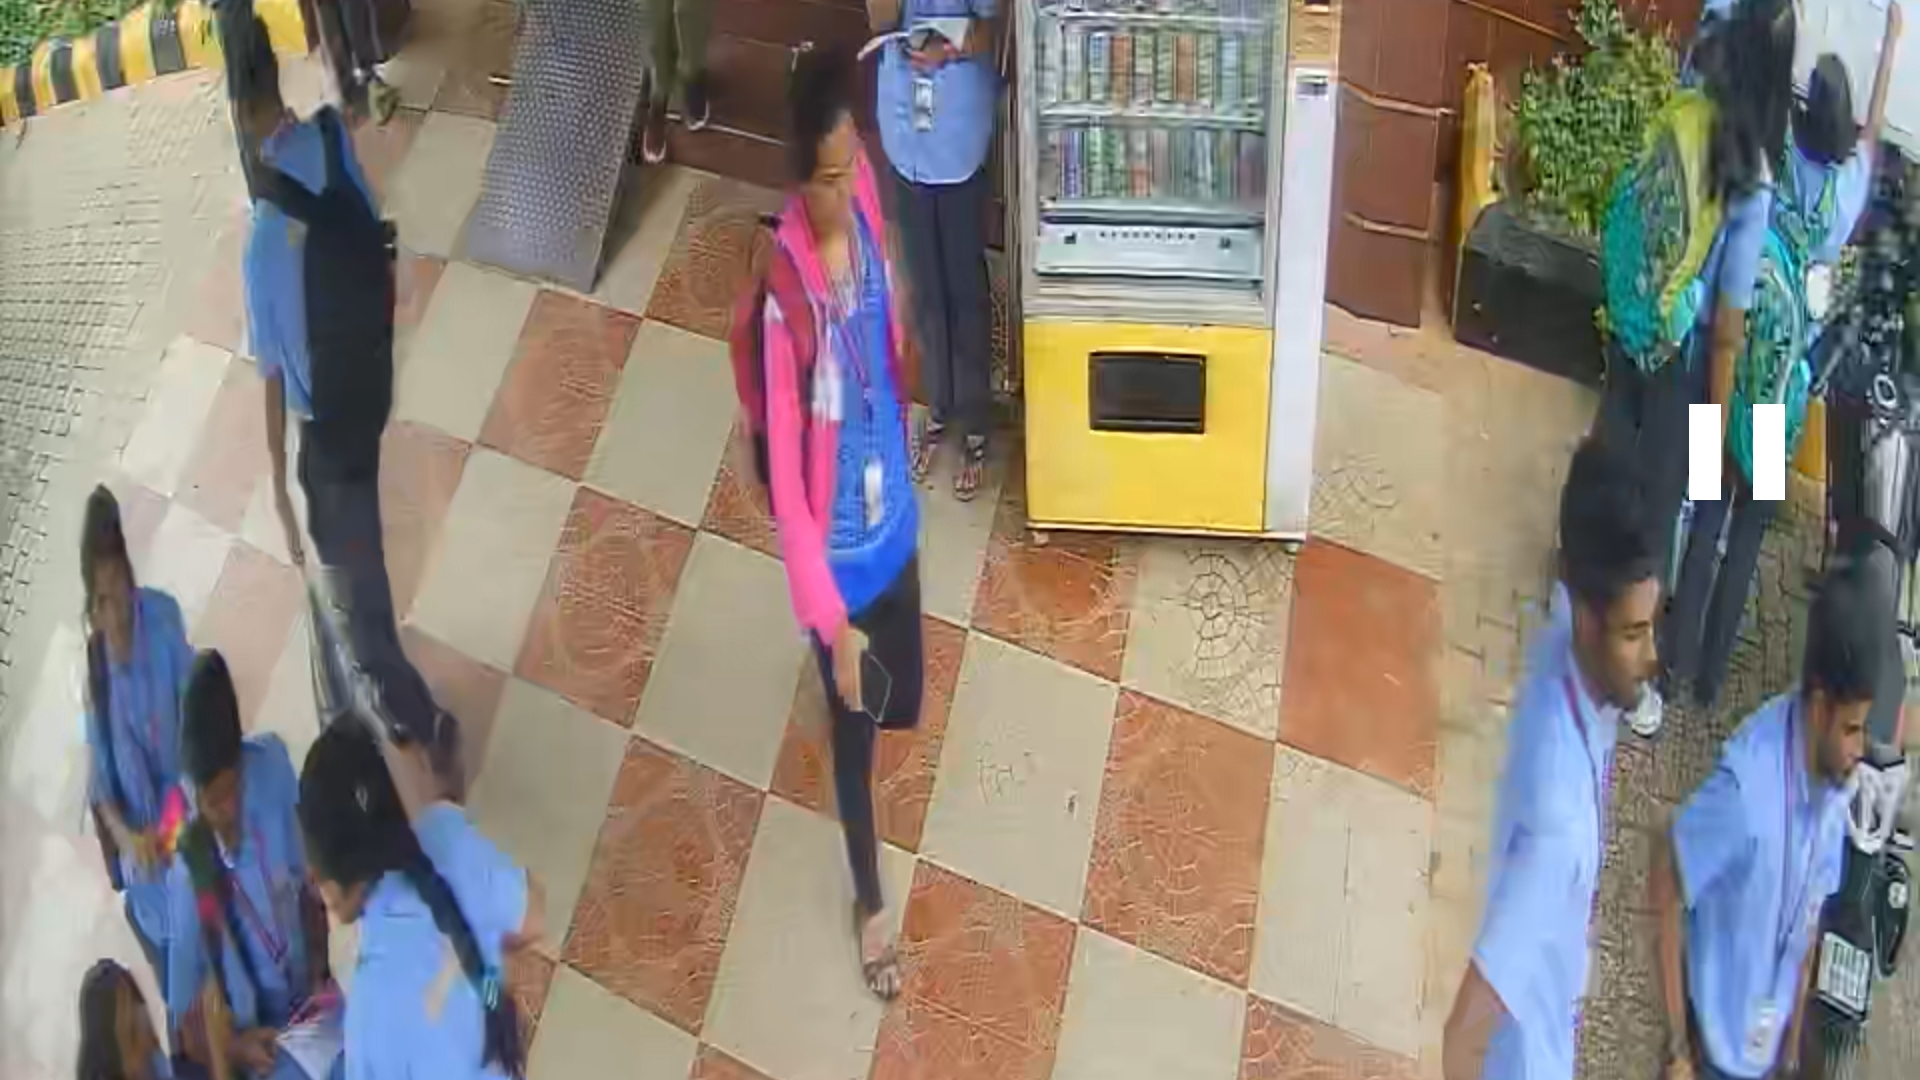not intruder: (738, 74, 967, 1004), (53, 504, 206, 927), (164, 666, 326, 1059)
